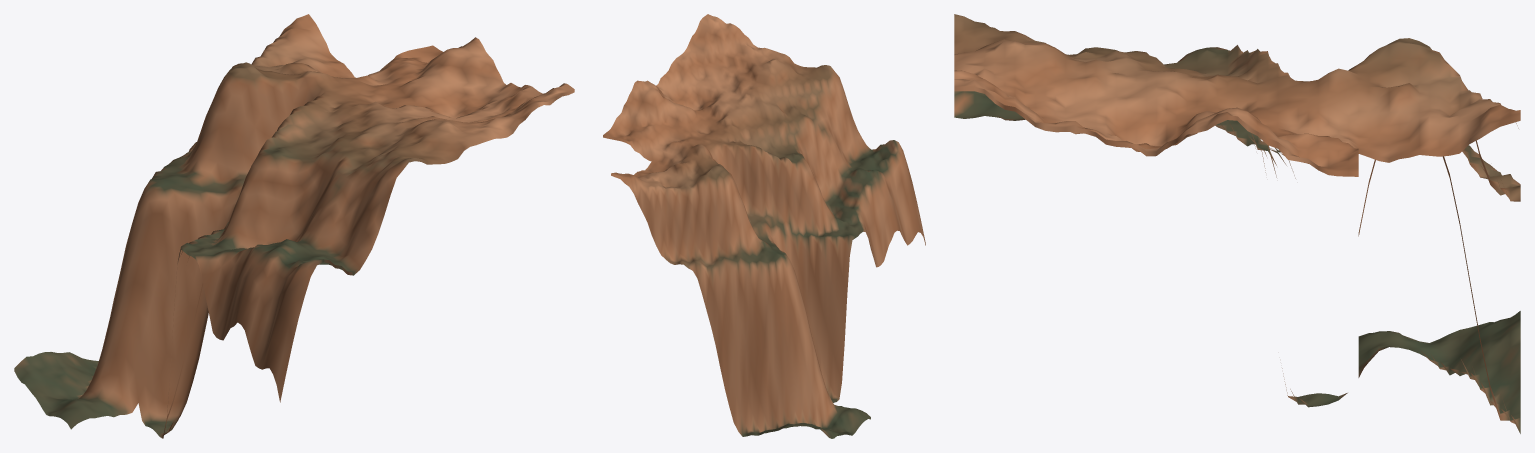
The model's file is terrain-045.glb.
The picture shows the model from 3 angles, left to right: view 1: azimuth 30°, elevation 25°; view 2: azimuth 150°, elevation 25°; view 3: azimuth 270°, elevation 25°; orthographic projection. The views are drawn at different scales.
Visible parts, largest first — view 1: terrain-045; view 2: terrain-045; view 3: terrain-045.
Part boxes in pixels (<box>): terrain-045: <box>14,14,574,438</box>; terrain-045: <box>603,14,925,438</box>; terrain-045: <box>954,14,1520,433</box>.
Size of the model in its own units: 472 by 457 by 448.
